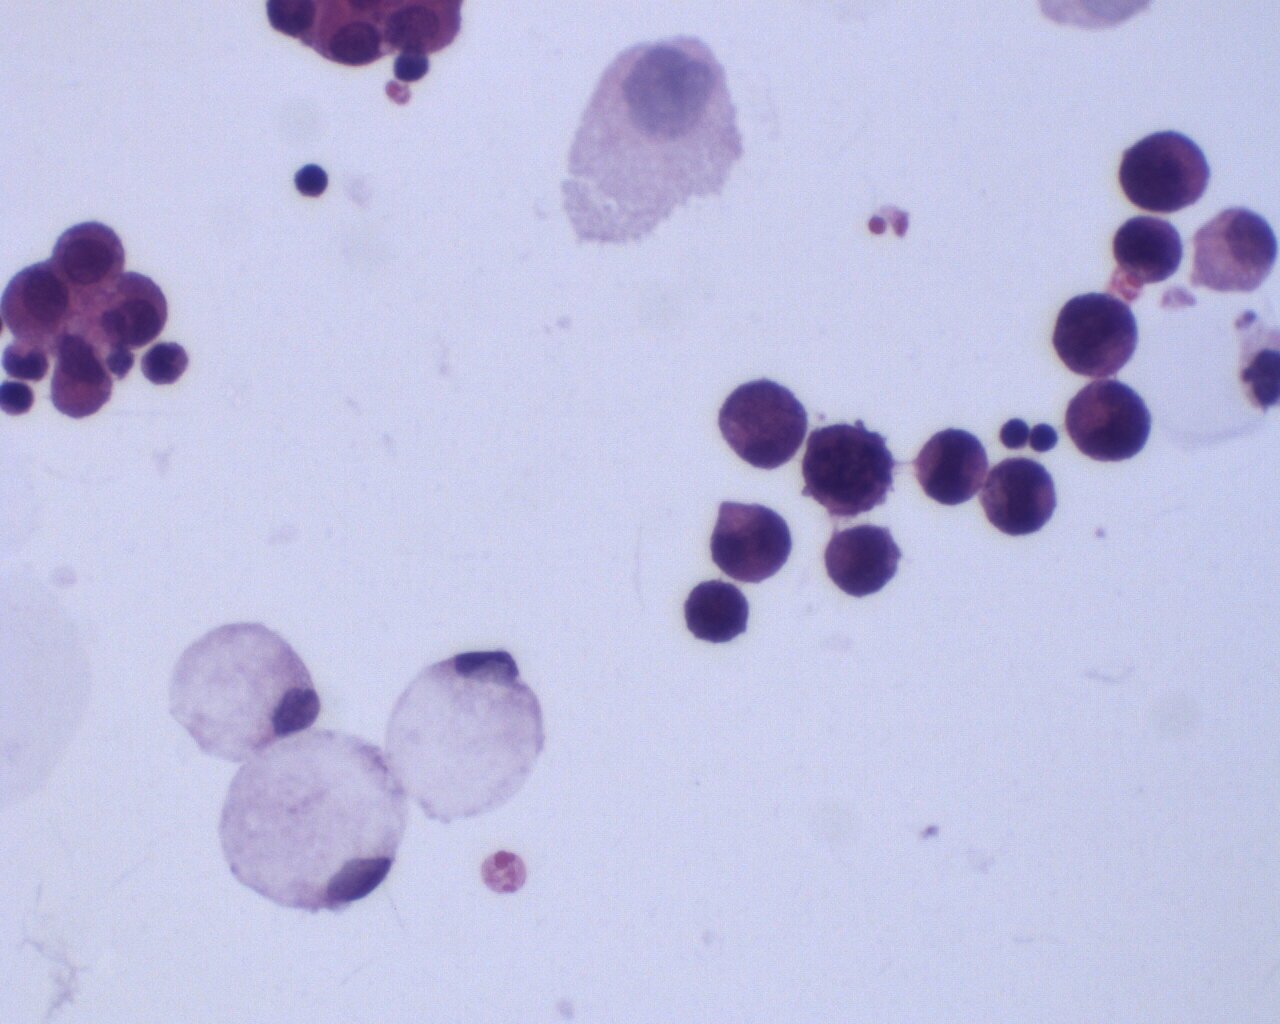ab: (804, 417, 895, 521), (717, 377, 811, 474), (1119, 127, 1213, 217), (1063, 380, 1154, 466), (1051, 289, 1138, 378), (709, 496, 793, 583), (824, 518, 905, 601), (983, 455, 1058, 538), (915, 426, 990, 508), (1109, 211, 1186, 286), (681, 579, 751, 647)
histo: (214, 724, 403, 910), (385, 648, 551, 825), (162, 621, 322, 758)
lymph: (289, 157, 333, 202), (1027, 419, 1061, 455), (997, 415, 1028, 451)
meso: (1190, 201, 1278, 301), (1, 259, 84, 349), (54, 220, 127, 298)
